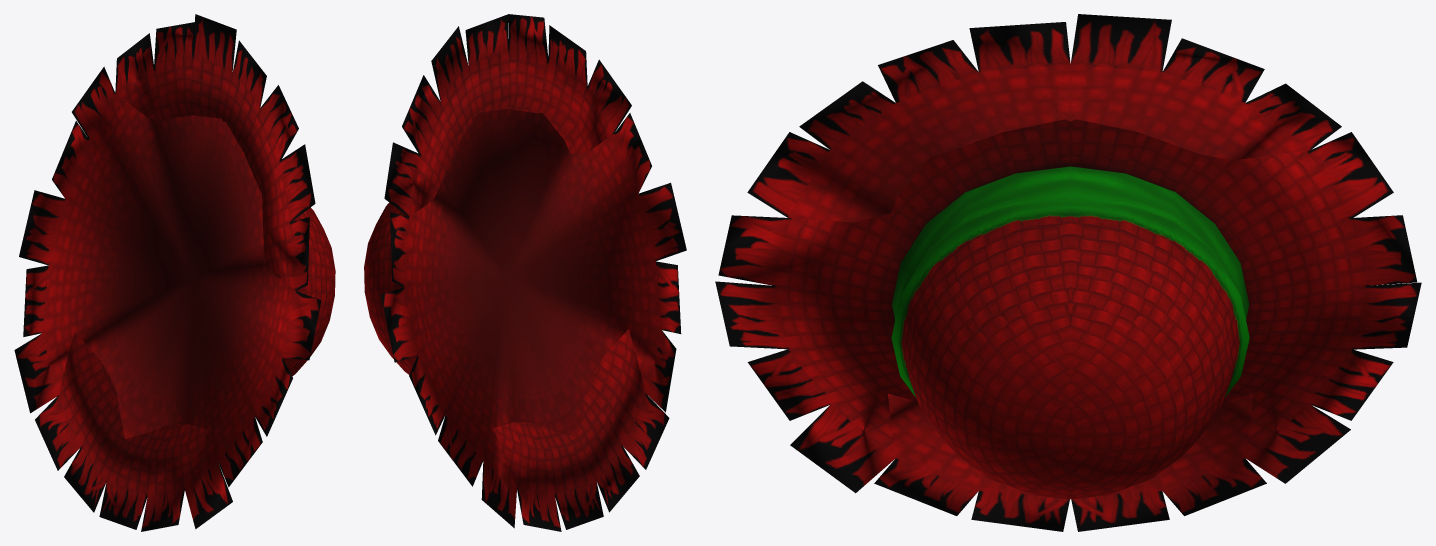
The picture shows the model from 3 angles, left to right: view 1: azimuth 30°, elevation 25°; view 2: azimuth 150°, elevation 25°; view 3: azimuth 270°, elevation 25°; orthographic projection. The views are drawn at different scales.
Parts seen in each view (by area): view 1: L1146; view 2: L1146; view 3: L1146.
Boxes of the visible parts, x1,y1,x2,y2 form: L1146: (14, 14, 335, 531); L1146: (364, 14, 686, 531); L1146: (715, 14, 1421, 531).
Size of the model in its own units: 0.48 by 0.9379 by 0.9793.
